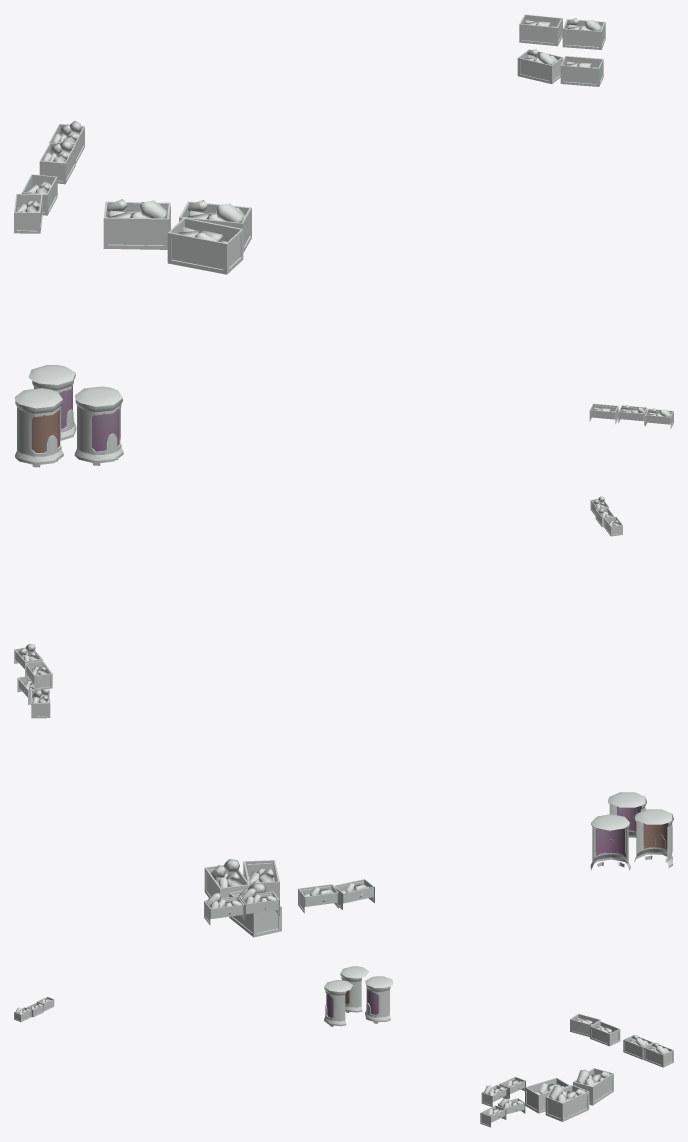
The picture shows the model from 3 angles, top to bottom: view 1: azimuth 30°, elevation 25°; view 2: azimuth 150°, elevation 25°; view 3: azimuth 270°, elevation 25°; orthographic projection. The views are drawn at different scales.
Parts seen in each view (by area): view 1: G:\FFXIV-MapTools\exports\n4f1\bg\ex3\01_nvt_n4\fld\n4f1\bgp (×4); view 2: G:\FFXIV-MapTools\exports\n4f1\bg\ex3\01_nvt_n4\fld\n4f1\bgp (×4); view 3: G:\FFXIV-MapTools\exports\n4f1\bg\ex3\01_nvt_n4\fld\n4f1\bgp (×4).
Part boxes in pixels (left/top/right/bottom): G:\FFXIV-MapTools\exports\n4f1\bg\ex3\01_nvt_n4\fld\n4f1\bgp (×4): left=14, top=14, right=673, bottom=467; G:\FFXIV-MapTools\exports\n4f1\bg\ex3\01_nvt_n4\fld\n4f1\bgp (×4): left=14, top=496, right=673, bottom=937; G:\FFXIV-MapTools\exports\n4f1\bg\ex3\01_nvt_n4\fld\n4f1\bgp (×4): left=14, top=966, right=673, bottom=1127.
Size of the model in its own units: 7.79 by 2.07 by 10.55.
